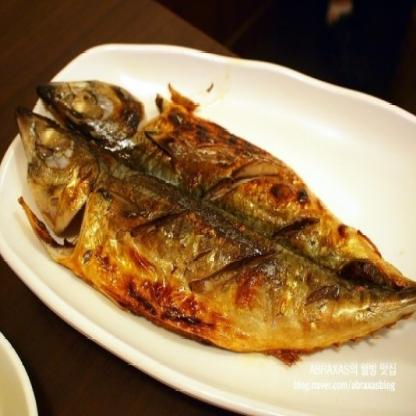Peixe: (0, 77, 416, 362)
